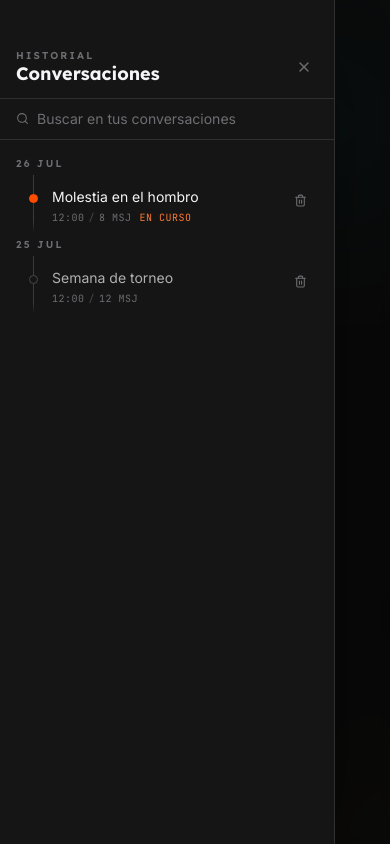
Scenario: ConversationDrawer › removes a deleted search result and refreshes the active query
In the field with placeholder "Buscar en tus conversaciones": (178, 118) [37,108,318,128], type "torneo"
Wait 300 ms
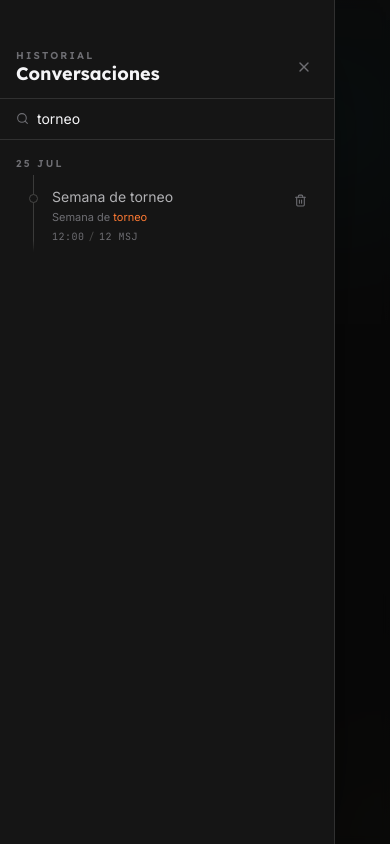
Expected: the text "Semana de torneo" is shown, [52,188,173,204]
Result: the text "torneo" is shown at [113,210,147,224]
Click the button named "Borrar conversación": (300, 200) [286,186,314,214]
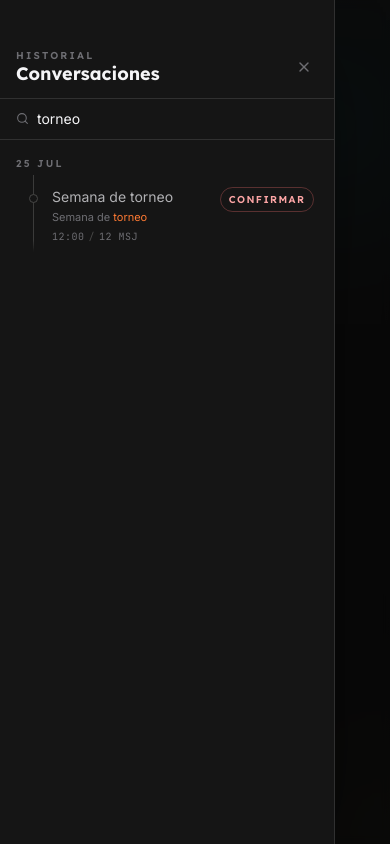
Click the button with aria-label "Confirmar borrado": (267, 199) [220,186,314,212]
Wait 300 ms
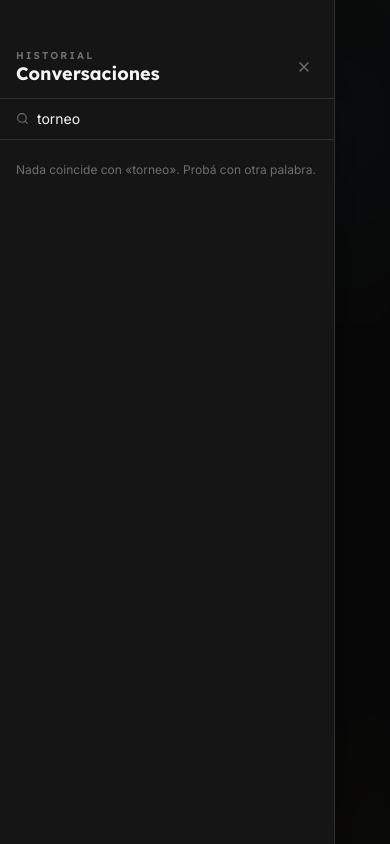
Result: no buttons "Semana de torneo" are shown
